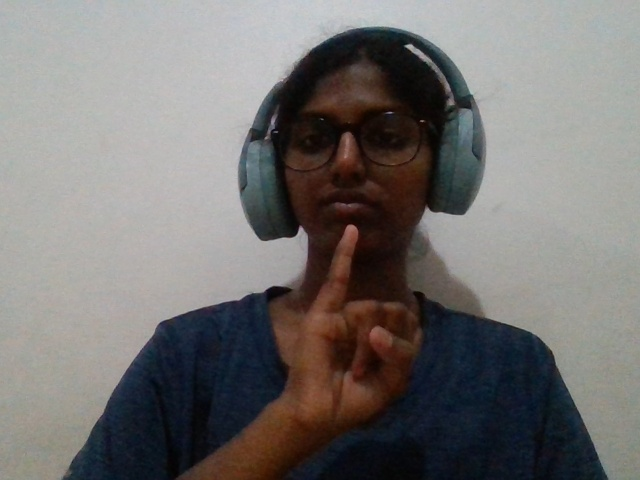I: (244, 204, 436, 474)
